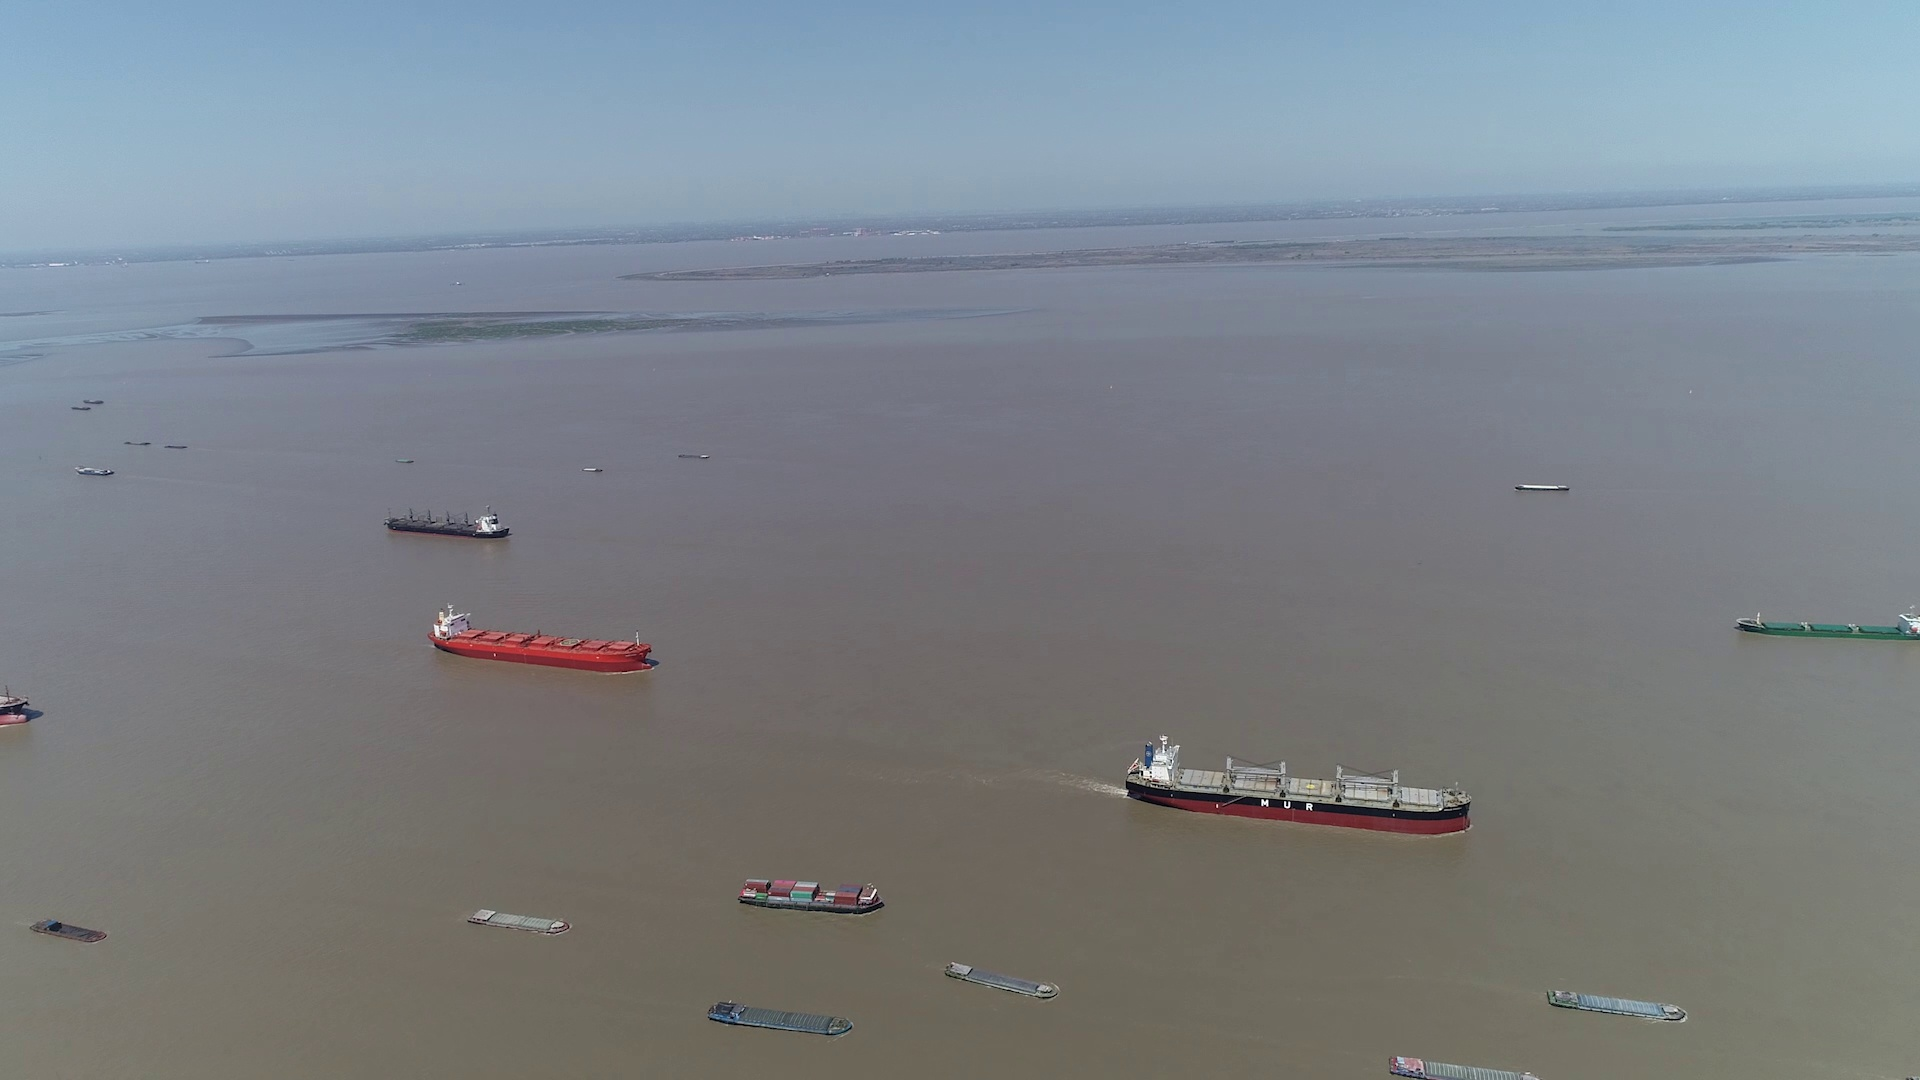ship: (1126, 738, 1472, 833), (430, 604, 654, 673), (1737, 608, 1919, 641), (704, 1000, 855, 1038), (737, 878, 885, 915), (1547, 986, 1687, 1025), (945, 961, 1058, 1000), (384, 506, 512, 538), (1390, 1054, 1538, 1080), (465, 906, 568, 934), (0, 682, 38, 731), (33, 916, 104, 942), (1513, 483, 1567, 493), (76, 464, 113, 476), (676, 452, 709, 460)
